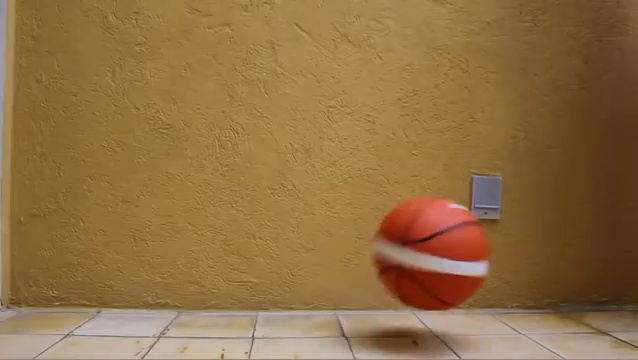ball: (374, 195, 491, 315)
